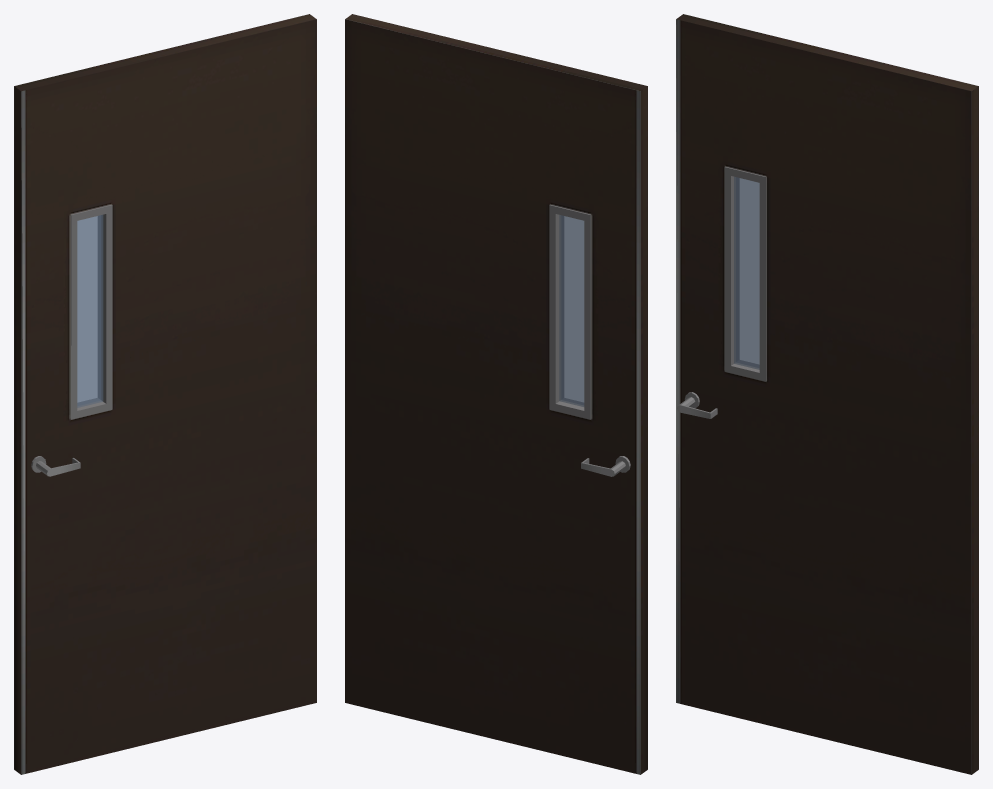
File: Door_Lrg.fbx
3 renders of one model, left to right at view 1: azimuth 30°, elevation 25°; view 2: azimuth 150°, elevation 25°; view 3: azimuth 330°, elevation 25°, orthographic.
Parts seen in each view (by area): view 1: Door_Lrg; view 2: Door_Lrg; view 3: Door_Lrg.
Part boxes in pixels (x1,y1,x2,y2): Door_Lrg: [14, 14, 316, 774]; Door_Lrg: [345, 14, 647, 774]; Door_Lrg: [676, 14, 978, 774].
Size of the model in its own units: 96.02 by 212 by 18.12.
2 materials, 1 textured.
